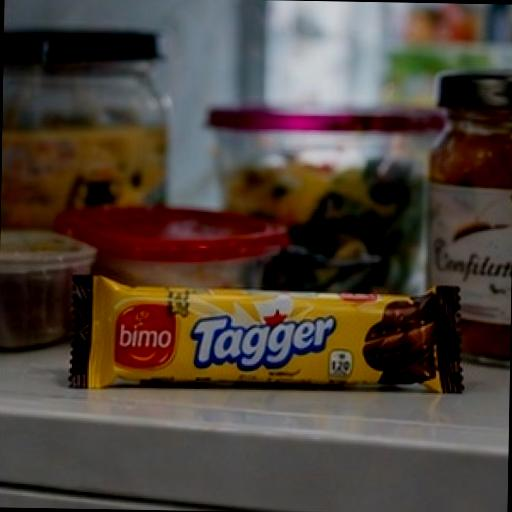tagger: (43, 230, 512, 420)
